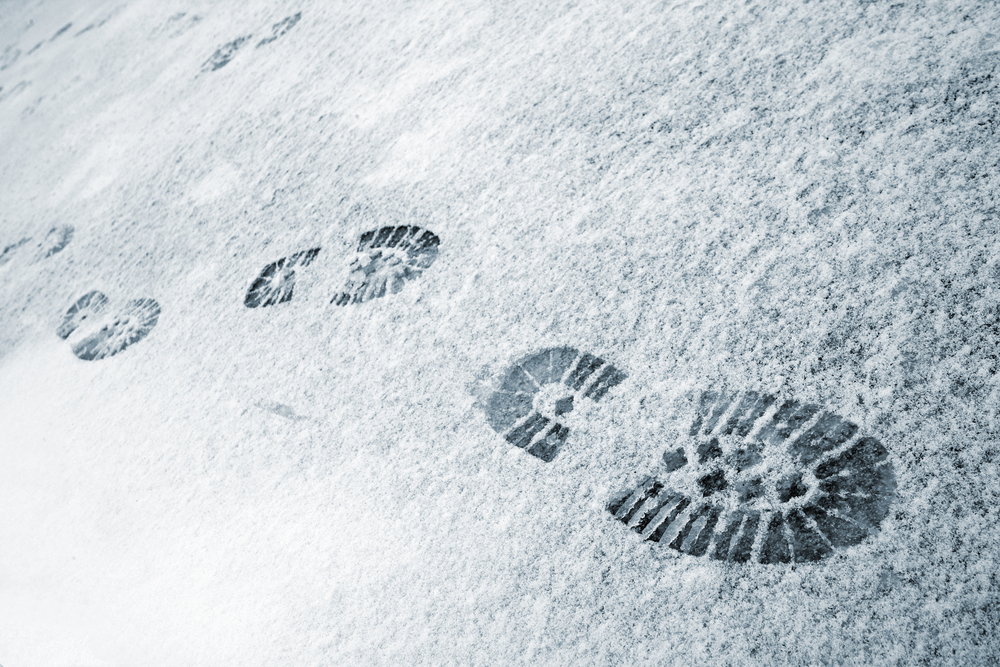human_foot_print: (490, 328, 926, 592), (235, 209, 479, 320), (23, 270, 182, 377)
